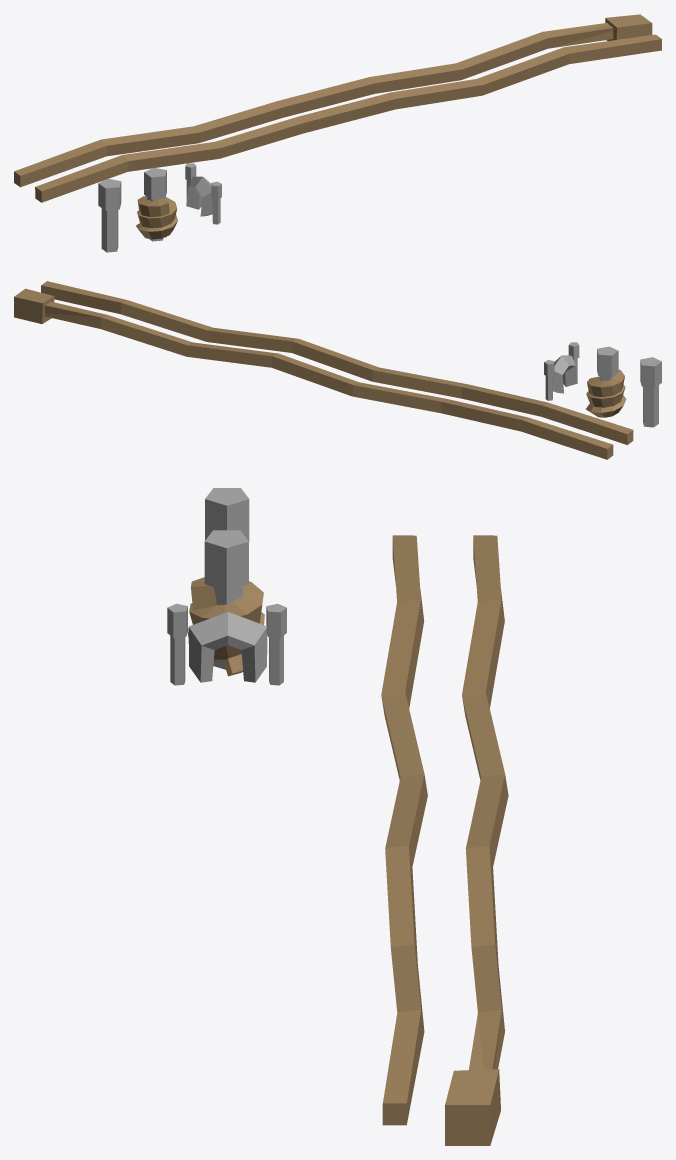
Rendered from Rope.fbx.
3 renders of one model, top to bottom at view 1: azimuth 30°, elevation 25°; view 2: azimuth 150°, elevation 25°; view 3: azimuth 270°, elevation 25°, orthographic. The views are drawn at different scales.
Parts seen in each view (by area): view 1: Rope_End, Rope, Rope_Connection, Metal_Bolt, Rope_Wall_Connection; view 2: Rope_End, Rope, Rope_Connection, Rope_Wall_Connection, Metal_Bolt; view 3: Rope_End, Rope, Rope_Wall_Connection, Rope_Connection, Metal_Bolt.
Part boxes in pixels (x1,y1,x2,y2): Rope_End: (14, 14, 652, 187); Rope: (35, 34, 661, 202); Rope_Connection: (136, 167, 177, 241); Metal_Bolt: (98, 178, 121, 252); Rope_Wall_Connection: (185, 163, 221, 224); Rope_End: (14, 288, 613, 459); Rope: (41, 281, 633, 444); Rope_Connection: (585, 346, 626, 417); Rope_Wall_Connection: (544, 342, 579, 400); Metal_Bolt: (640, 357, 661, 427); Rope_End: (445, 535, 508, 1145); Rope: (381, 535, 427, 1125); Rope_Wall_Connection: (167, 603, 286, 685); Rope_Connection: (188, 530, 264, 676); Metal_Bolt: (205, 488, 249, 541).
Size of the model in its own units: 404 by 41.86 by 100.
